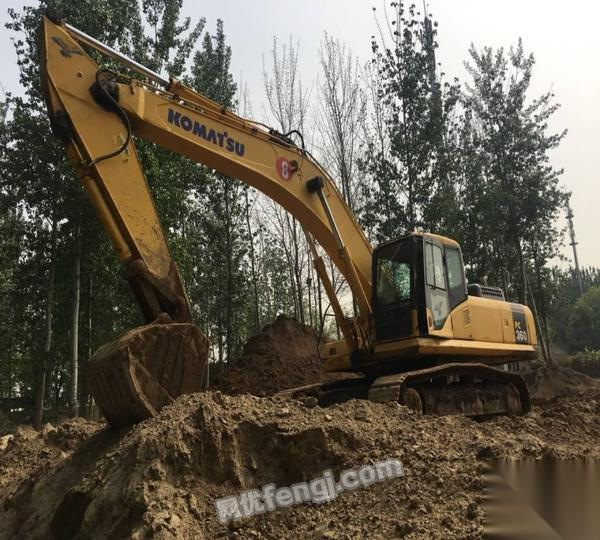excavator: (29, 16, 548, 427)
